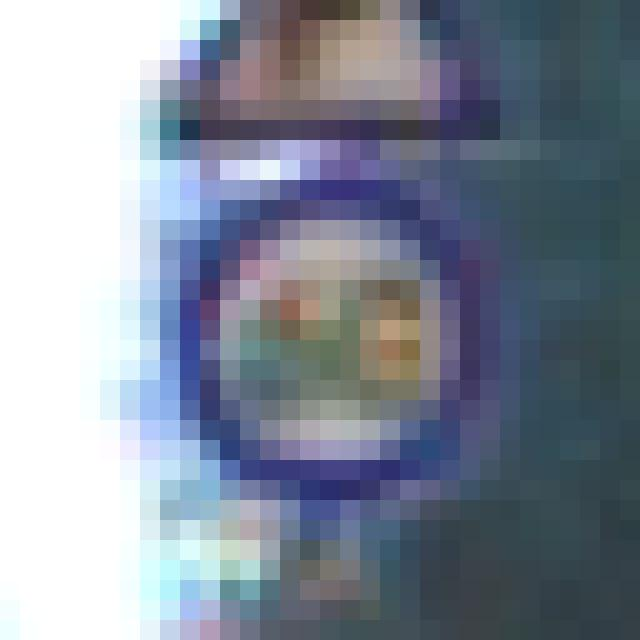SPEED-LIMIT-60: (126, 178, 523, 505)
